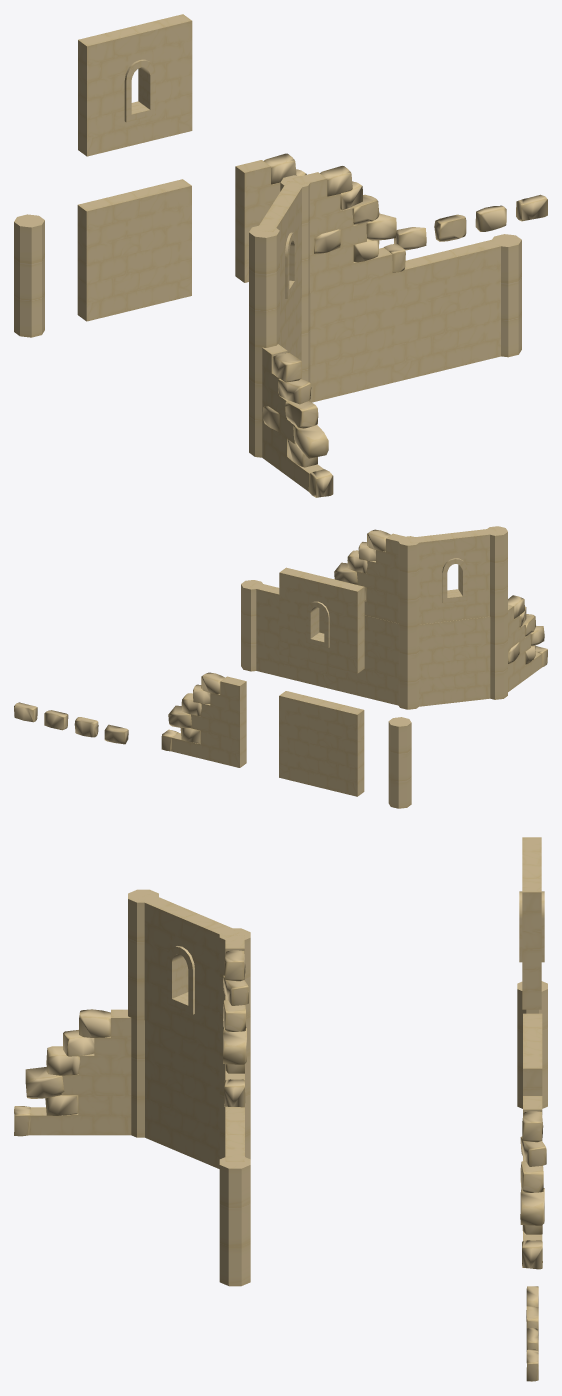
File: Testwalls.fbx
The picture shows the model from 3 angles, top to bottom: view 1: azimuth 30°, elevation 25°; view 2: azimuth 150°, elevation 25°; view 3: azimuth 270°, elevation 25°; orthographic projection. The views are drawn at different scales.
Visible parts, largest first — view 1: pCube32, pCube34, pCube41, pCube54, 2low3, 2low4, 2low2, pCylinder32, pCylinder34, pCube35, pCylinder37, pCylinder33 (+7 smaller); view 2: pCube32, pCube34, pCube35, 2low2, pCube53, 2low3, pCube54, pCube41, 2low4, pCylinder32, pCylinder31, pCylinder30 (+7 smaller); view 3: 2low4, pCube35, pCube53, pCylinder37, 2low2, pCube34, 2low3, pCylinder34, pCube32, pCylinder33, pCylinder32, pCylinder31 (+2 smaller).
Boxes of the visible parts, left/top/right/bottom form: pCube32: left=77, top=179, right=191, bottom=321; pCube34: left=78, top=14, right=192, bottom=156; pCube41: left=405, top=239, right=501, bottom=379; pCube54: left=310, top=269, right=405, bottom=402; 2low3: left=292, top=166, right=405, bottom=292; 2low4: left=262, top=344, right=333, bottom=497; 2low2: left=235, top=153, right=306, bottom=282; pCylinder32: left=14, top=214, right=44, bottom=337; pCylinder34: left=249, top=225, right=279, bottom=347; pCube35: left=257, top=181, right=302, bottom=331; pCylinder37: left=491, top=234, right=521, bottom=357; pCylinder33: left=249, top=341, right=279, bottom=457; pCube32: left=279, top=691, right=364, bottom=796; pCube34: left=279, top=567, right=364, bottom=673; pCube35: left=407, top=528, right=497, bottom=624; 2low2: left=161, top=672, right=246, bottom=767; pCube53: left=419, top=616, right=490, bottom=706; 2low3: left=334, top=529, right=408, bottom=623; pCube54: left=327, top=615, right=398, bottom=705; pCube41: left=249, top=582, right=327, bottom=687; 2low4: left=508, top=595, right=547, bottom=691; pCylinder32: left=388, top=717, right=411, bottom=808; pCylinder31: left=398, top=536, right=419, bottom=627; pCylinder30: left=398, top=624, right=418, bottom=709; 2low4: left=14, top=1009, right=131, bottom=1136; pCube35: left=138, top=894, right=239, bottom=1051; pCube53: left=145, top=1020, right=219, bottom=1168; pCylinder37: left=219, top=1157, right=250, bottom=1286; 2low2: left=520, top=1096, right=546, bottom=1269; pCube34: left=519, top=837, right=544, bottom=1009; 2low3: left=223, top=935, right=248, bottom=1107; pCylinder34: left=128, top=889, right=158, bottom=1020; pCube32: left=523, top=1013, right=542, bottom=1095; pCylinder33: left=131, top=1018, right=144, bottom=1137; pCylinder32: left=517, top=981, right=547, bottom=1108; pCylinder31: left=219, top=928, right=250, bottom=1056.
Bounding box in the file's own units: 10.04 × 5.18 × 8.23.
2 materials, 2 textured.
